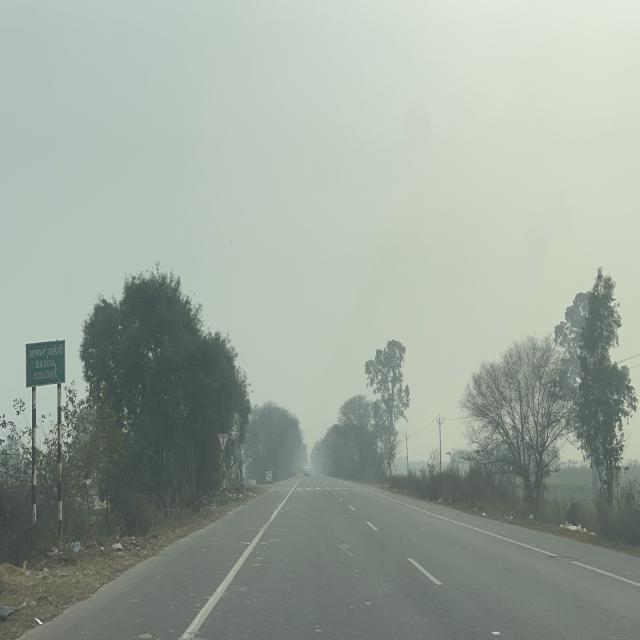GENERAL: (24, 338, 66, 388)
